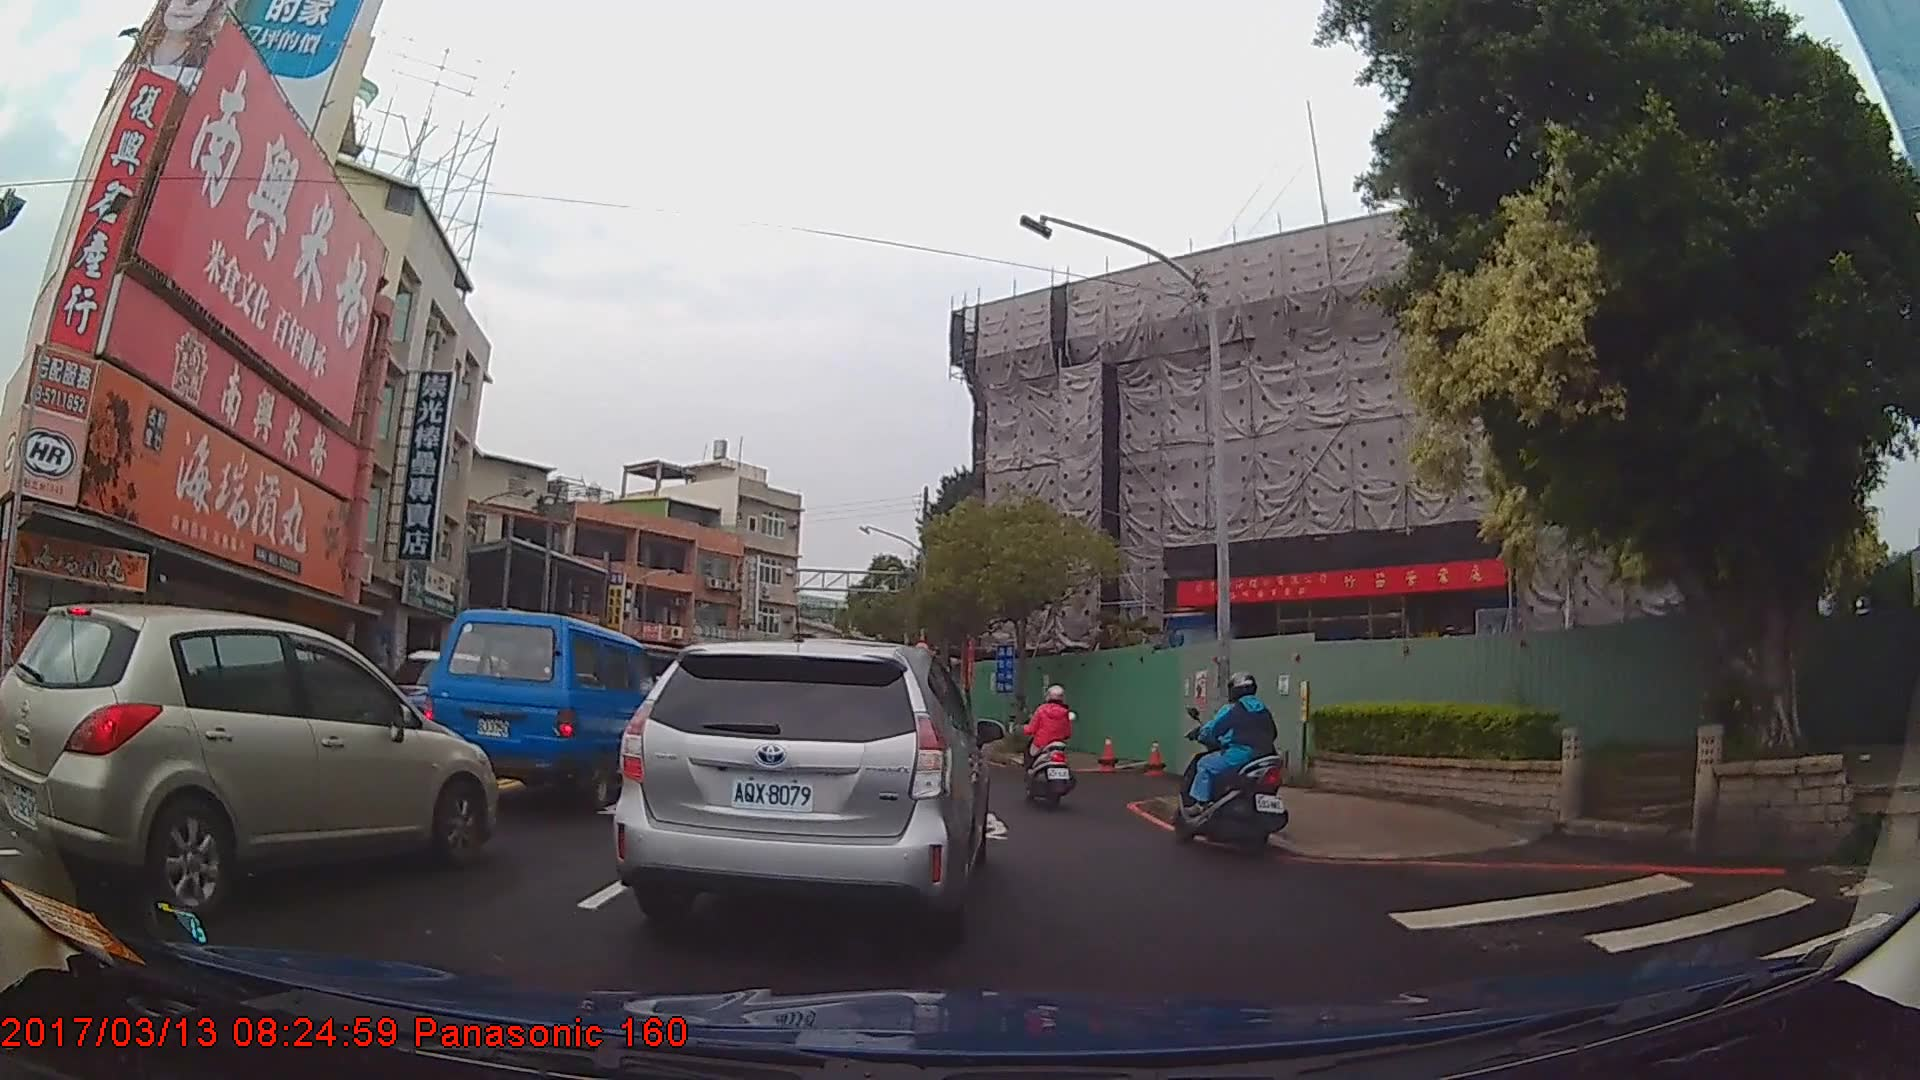rider: (1177, 672, 1292, 852), (1013, 684, 1074, 800)
vehicle: (0, 596, 496, 919), (610, 631, 989, 945), (426, 606, 673, 810)
